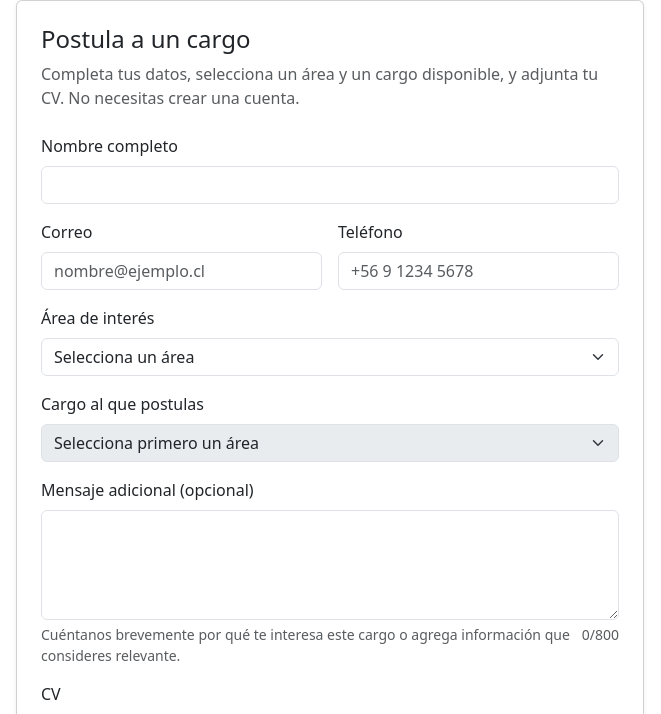
Test case: Postular: mensaje adicional › muestra el campo opcional con su ayuda, el límite de 800 y un contador
The image size is (661, 714).
Expected: the text "0/800" is shown, left=582, top=625, right=619, bottom=644
In the text box labelled "Mensaje adicional (opcional)": (330, 565) left=41, top=510, right=619, bottom=620, type "Hola"
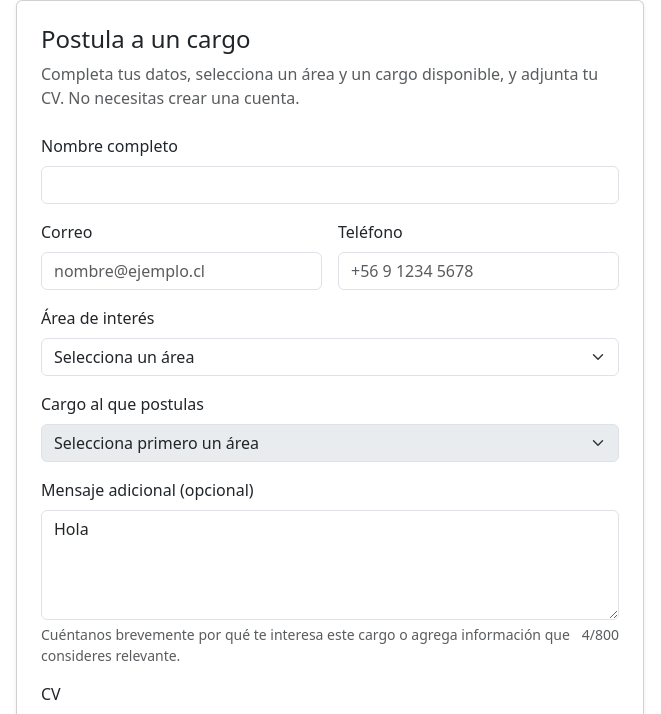
Expected: the text "4/800" is shown, left=582, top=625, right=619, bottom=644
